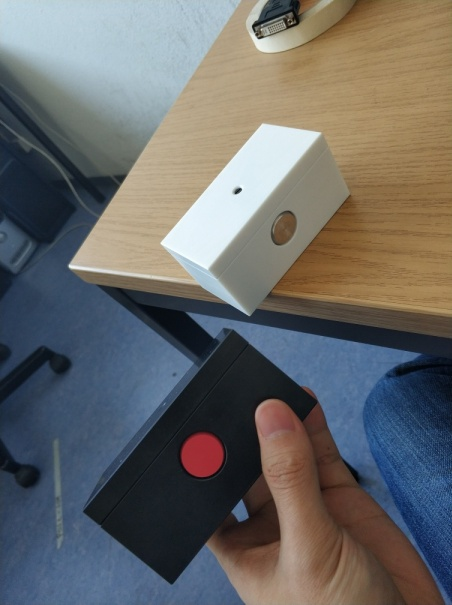black+black+red: (80, 326, 320, 585)
white+white+silver: (160, 120, 352, 317)
